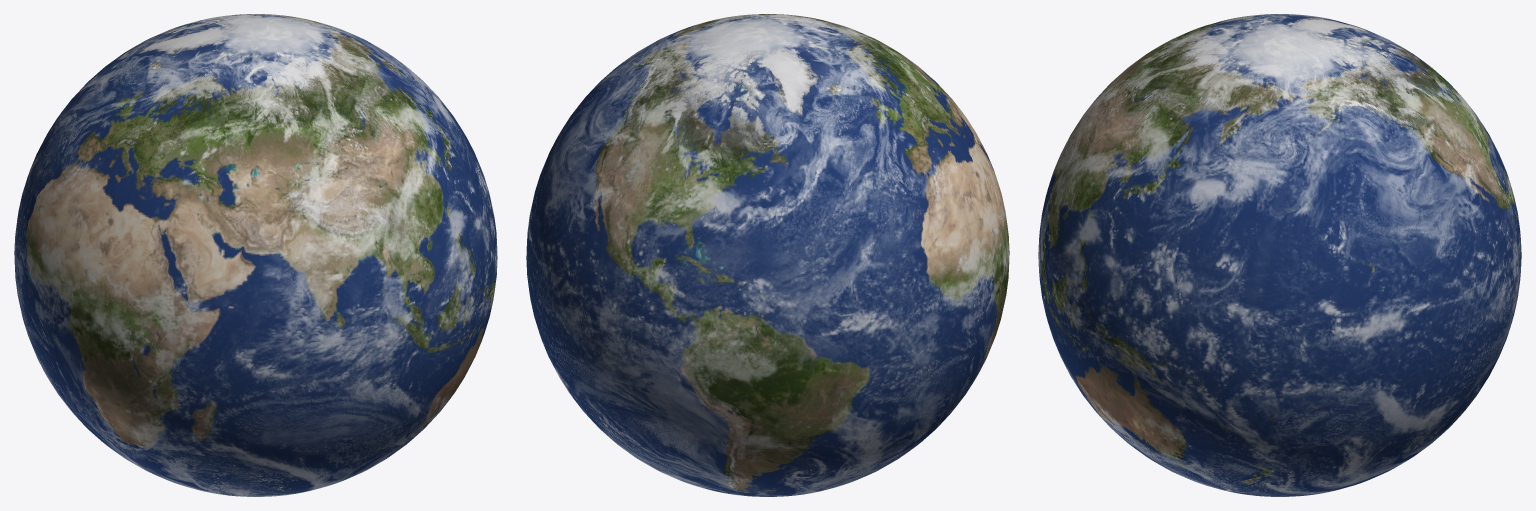
File: Earth.glb
The picture shows the model from 3 angles, left to right: view 1: azimuth 30°, elevation 25°; view 2: azimuth 150°, elevation 25°; view 3: azimuth 270°, elevation 25°; orthographic projection.
Parts seen in each view (by area): view 1: Sphere.3; view 2: Sphere.3; view 3: Sphere.3.
Boxes of the visible parts, x1,y1,x2,y2 form: Sphere.3: (14, 14, 497, 496); Sphere.3: (526, 14, 1009, 496); Sphere.3: (1038, 14, 1521, 496).
Bounding box in the file's own units: 73.48 × 73.48 × 73.48.
1 material, 1 textured.
